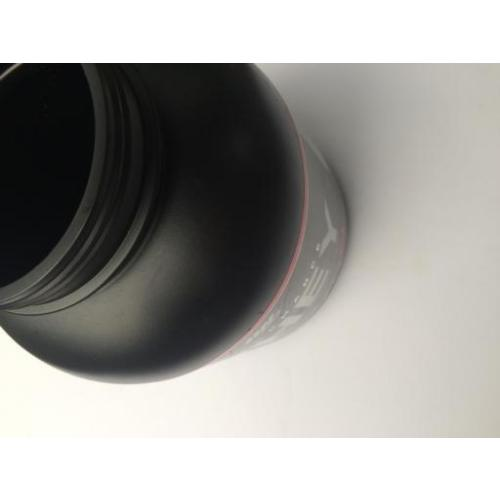plastic: (3, 62, 354, 386)
